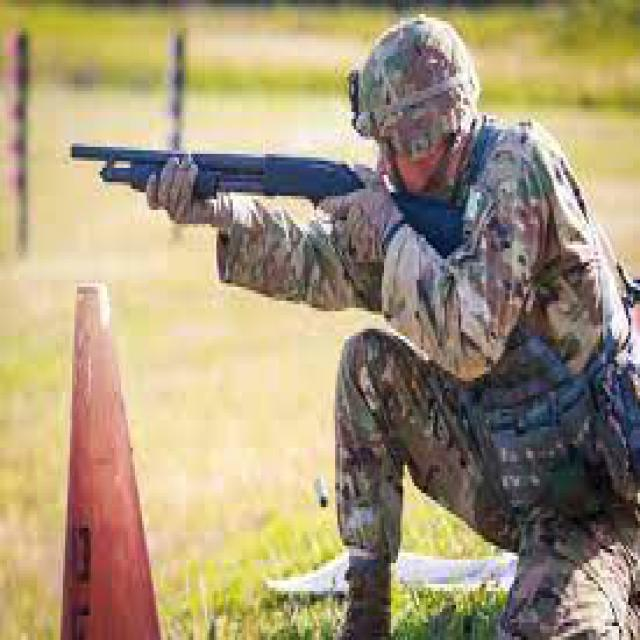long weapon: (57, 123, 408, 245)
